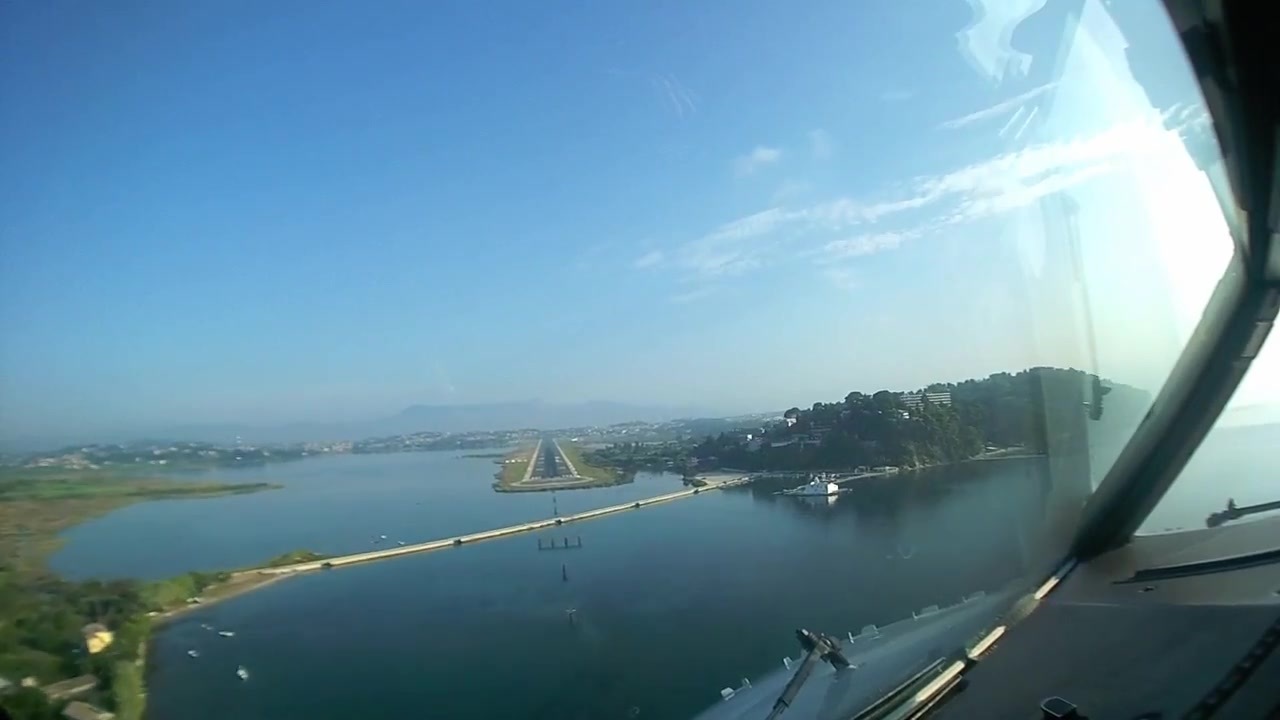entrance: (528, 474, 574, 481)
runway: (521, 436, 579, 488)
